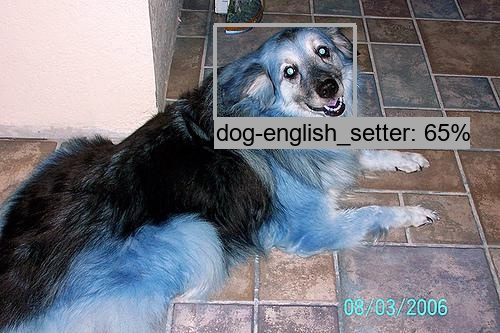dog-keeshond: (246, 24, 357, 122)
